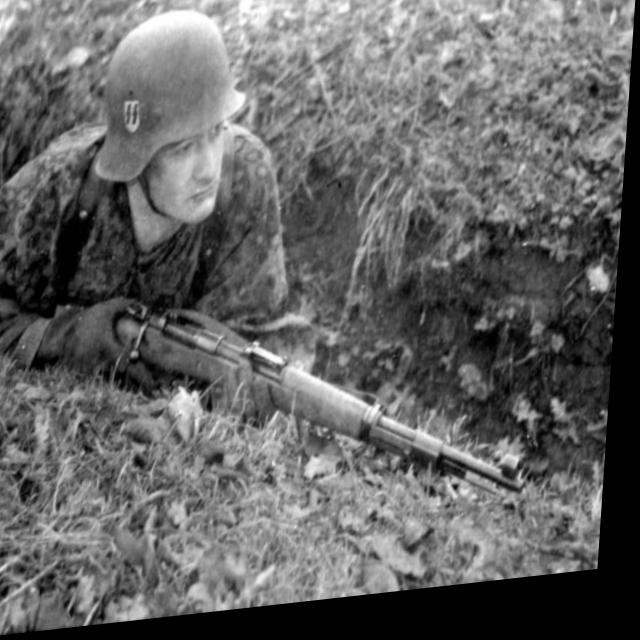other: (0, 0, 307, 367)
